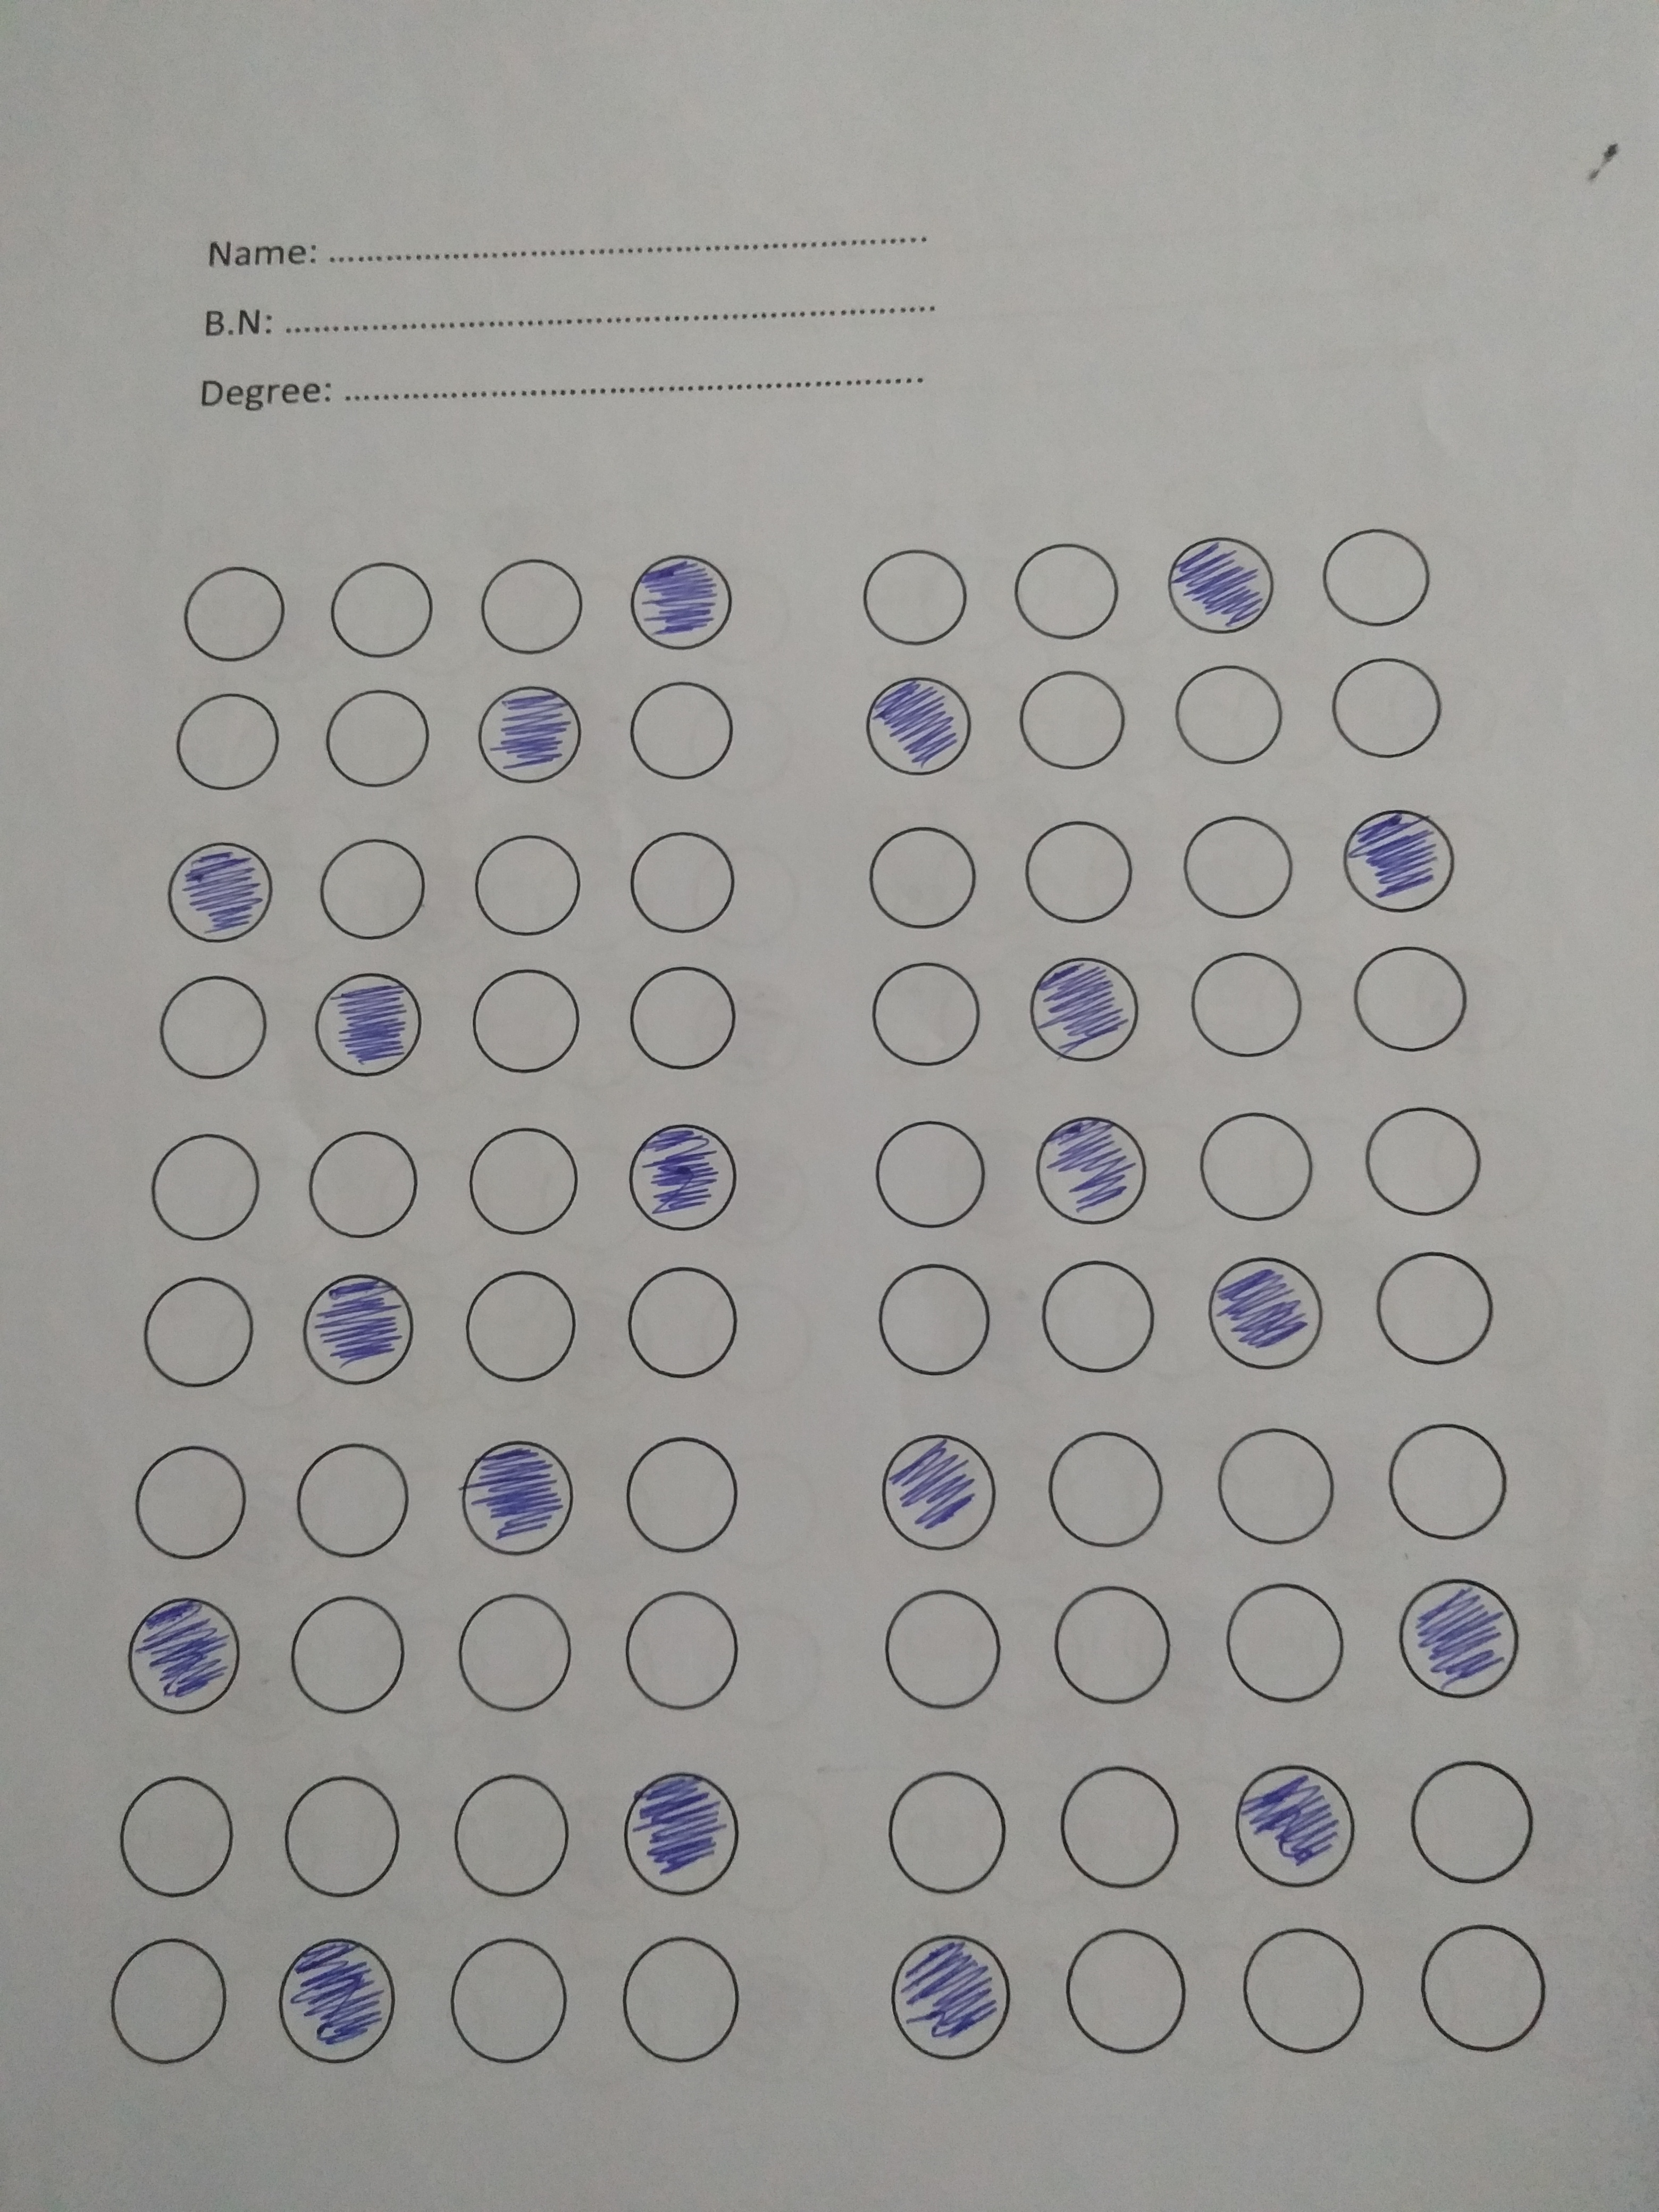not-c: (1392, 1754, 1551, 1897), (1352, 1244, 1511, 1385), (1053, 1919, 1202, 2067), (1204, 1573, 1354, 1719), (1046, 1763, 1201, 1904), (613, 1425, 756, 1575), (263, 1770, 415, 1907), (1356, 1090, 1492, 1242), (1236, 1912, 1373, 2060), (878, 1766, 1023, 1905), (113, 1764, 247, 1914), (1410, 1912, 1551, 2054), (437, 1773, 586, 1905), (1040, 1581, 1187, 1714), (1204, 1423, 1352, 1552), (1188, 1099, 1324, 1238), (103, 1937, 240, 2073), (608, 1932, 746, 2067), (627, 1254, 751, 1404), (1378, 1416, 1514, 1552), (1030, 1240, 1168, 1374), (451, 1583, 586, 1719), (606, 824, 744, 956), (282, 1585, 416, 1719), (868, 1256, 1002, 1390), (877, 1580, 1009, 1716), (291, 1123, 425, 1256), (134, 1263, 267, 1397), (443, 1932, 572, 2069), (458, 819, 598, 942), (462, 1266, 594, 1395), (458, 1120, 592, 1247), (451, 970, 587, 1096), (615, 1587, 751, 1712), (608, 671, 744, 794), (1040, 1420, 1166, 1552), (124, 1442, 254, 1568), (866, 1113, 1002, 1233), (150, 963, 277, 1090), (1182, 946, 1312, 1069), (1349, 939, 1480, 1062), (1016, 805, 1138, 937), (1323, 648, 1459, 765), (453, 549, 599, 657), (291, 1437, 416, 1562), (606, 963, 741, 1078), (864, 815, 990, 937), (1009, 662, 1140, 779), (145, 1134, 267, 1256), (298, 833, 437, 939), (312, 688, 443, 801), (160, 690, 293, 801), (1168, 662, 1295, 777), (324, 549, 443, 671), (1171, 813, 1302, 923), (176, 557, 296, 676), (852, 542, 974, 657), (1314, 526, 1445, 632), (868, 960, 986, 1076), (1007, 538, 1131, 646)
taken-c: (617, 1766, 748, 1897), (279, 1937, 404, 2067), (889, 1926, 1012, 2059), (1399, 1573, 1523, 1705), (880, 1426, 1004, 1554), (1237, 1761, 1358, 1892), (129, 1592, 246, 1719), (1208, 1251, 1328, 1369), (464, 1433, 580, 1555), (303, 1268, 418, 1390), (1032, 1111, 1148, 1228), (1028, 949, 1145, 1066), (629, 1116, 742, 1235), (315, 967, 429, 1080), (1342, 806, 1460, 914), (162, 838, 279, 946), (474, 678, 587, 787), (1166, 529, 1277, 639), (859, 676, 976, 777), (627, 550, 737, 655)
